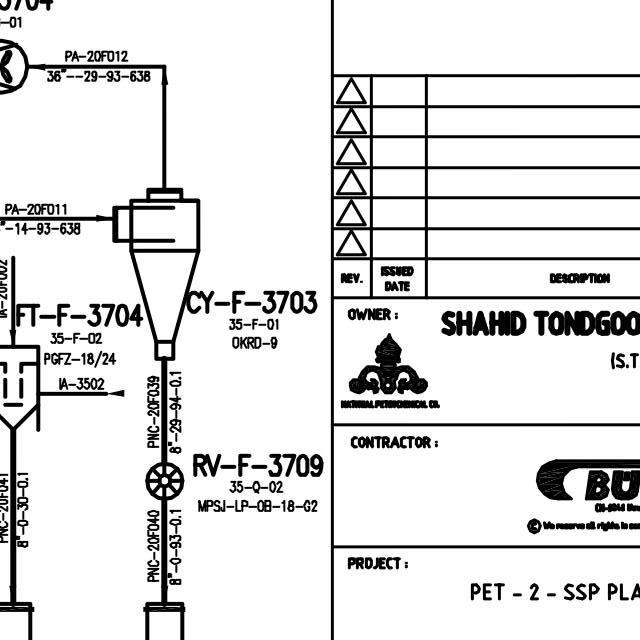CY: (107, 183, 203, 365)
RV1: (142, 460, 184, 501)
